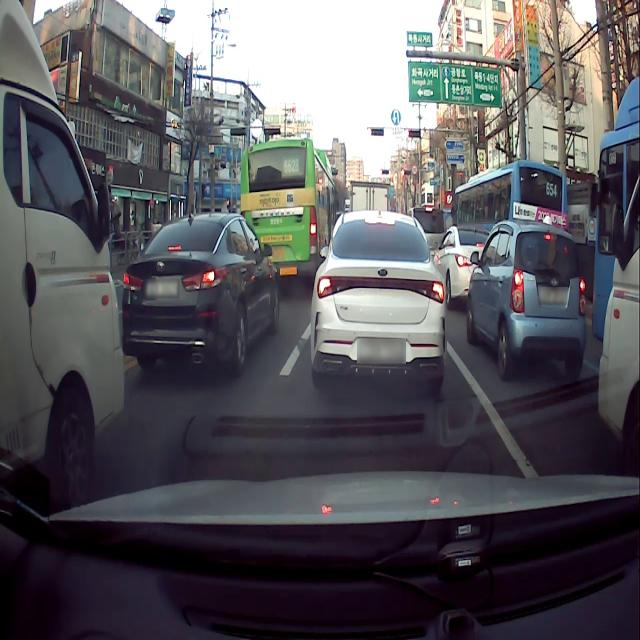Red Light: (366, 126, 372, 138), (404, 129, 409, 139), (378, 168, 382, 176), (401, 169, 405, 176)
